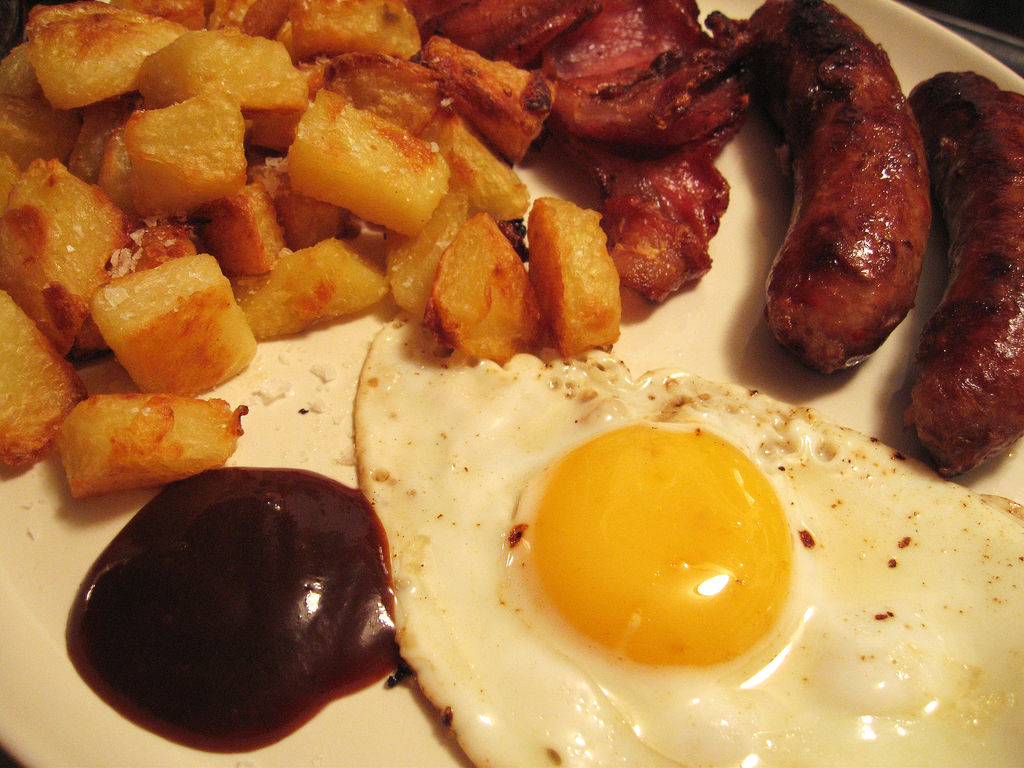fried egg: (370, 335, 978, 768)
